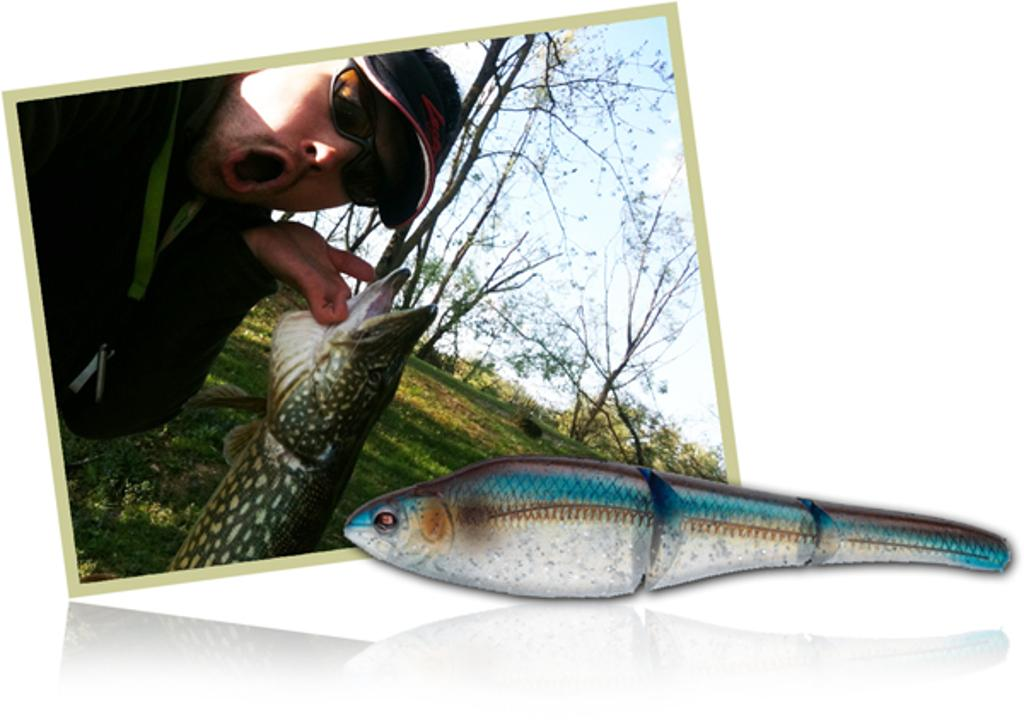face: (198, 62, 410, 222)
